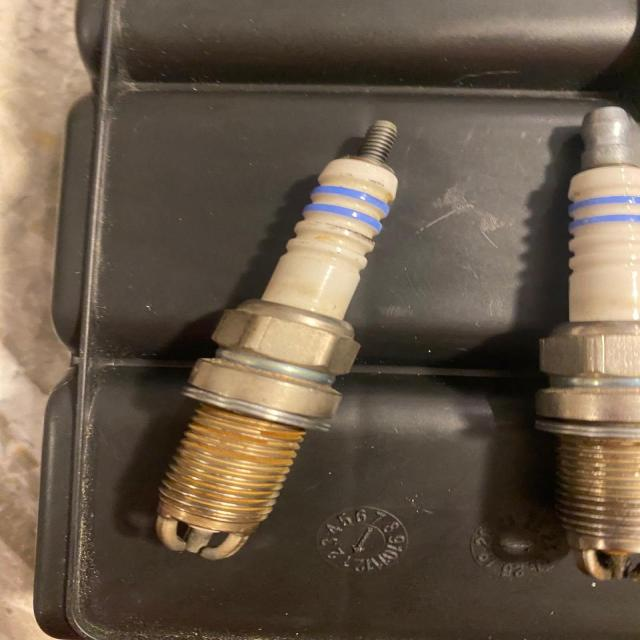spark-plug: (138, 103, 422, 562)
